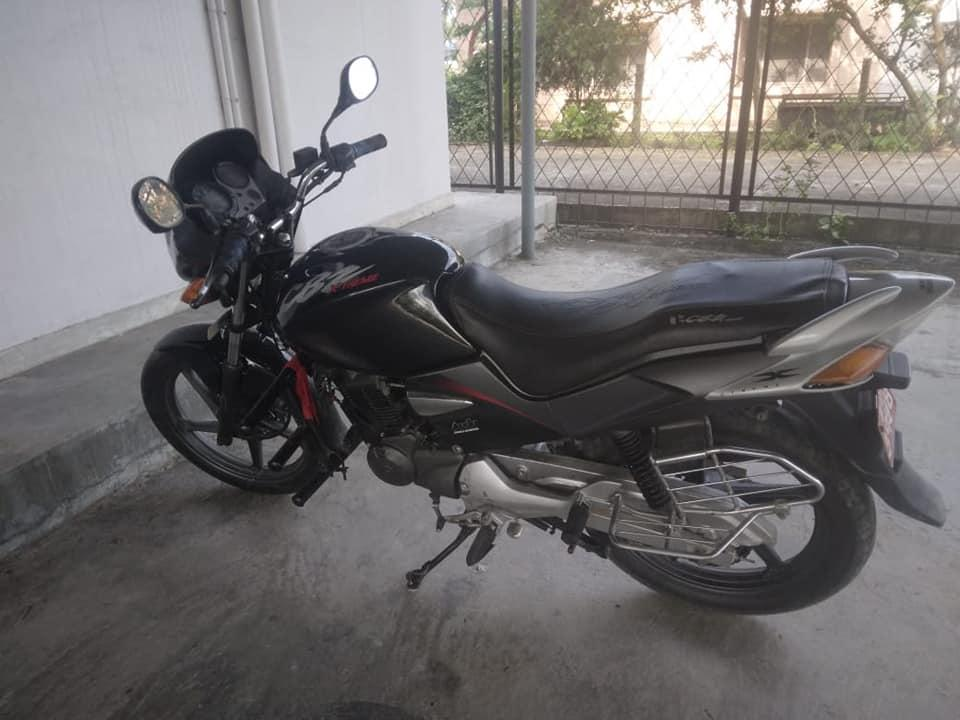bike: (120, 43, 949, 623)
